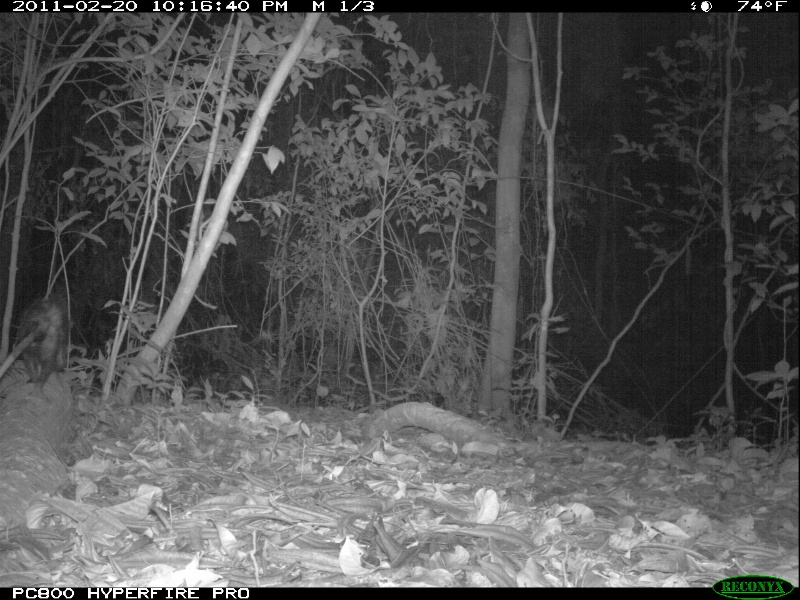opossum: (1, 300, 72, 389)
